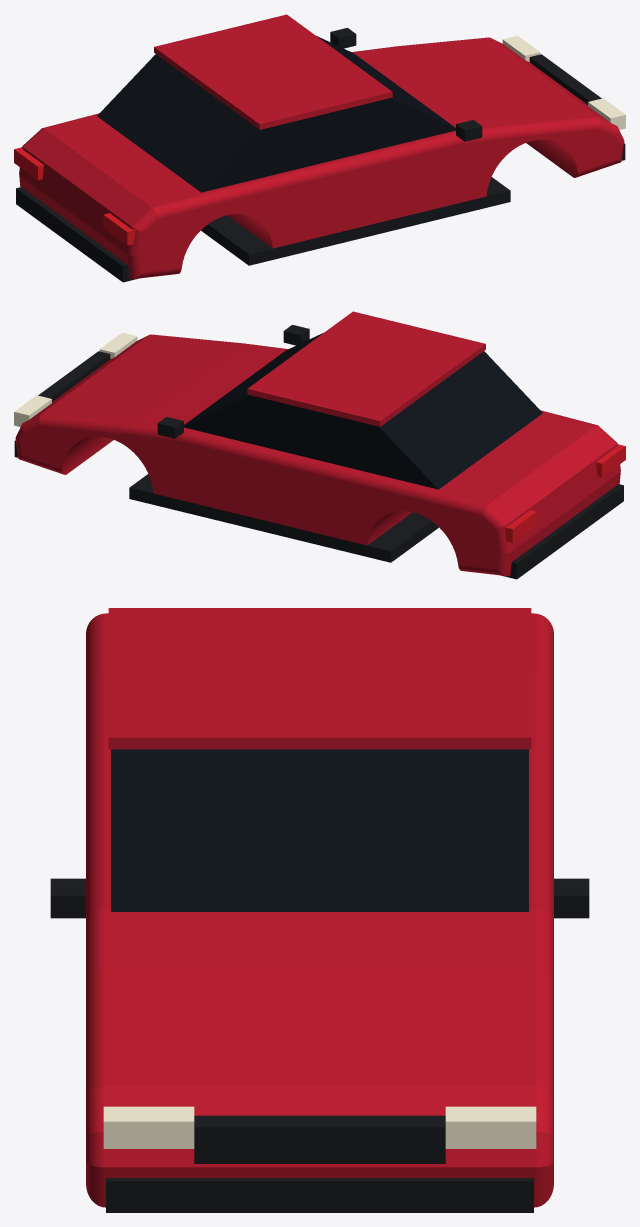
Rendered from sedan.glb.
3 views of the same model, one above another, from view 1: azimuth 30°, elevation 25°; view 2: azimuth 150°, elevation 25°; view 3: azimuth 270°, elevation 25° (orthographic). The views are drawn at different scales.
Visible parts, largest first — view 1: Body, Glass, Roof, Trim3, Trim2, Trim1, Head1, Tail1, Tail0, Head0, Trim5, Trim4; view 2: Body, Glass, Roof, Trim3, Trim2, Trim1, Head0, Tail0, Tail1, Head1, Trim4, Trim5; view 3: Body, Glass, Roof, Trim0, Trim1, Head0, Head1, Trim4, Trim5.
Part boxes in pixels (bbox=[...]): Body: bbox=[19, 37, 624, 279]; Glass: bbox=[97, 35, 455, 192]; Roof: bbox=[154, 14, 392, 129]; Trim3: bbox=[201, 177, 510, 265]; Trim2: bbox=[16, 187, 139, 282]; Trim1: bbox=[529, 54, 601, 104]; Head1: bbox=[588, 98, 625, 129]; Tail1: bbox=[103, 213, 135, 245]; Tail0: bbox=[14, 147, 43, 180]; Head0: bbox=[502, 35, 540, 61]; Trim5: bbox=[456, 120, 482, 141]; Trim4: bbox=[330, 28, 356, 48]; Body: bbox=[15, 334, 620, 576]; Glass: bbox=[184, 332, 542, 489]; Roof: bbox=[247, 311, 485, 426]; Trim3: bbox=[129, 474, 438, 562]; Trim2: bbox=[500, 484, 623, 579]; Trim1: bbox=[38, 351, 110, 401]; Head0: bbox=[14, 395, 51, 426]; Tail0: bbox=[504, 510, 536, 542]; Tail1: bbox=[596, 444, 625, 477]; Head1: bbox=[99, 332, 137, 358]; Trim4: bbox=[157, 417, 183, 438]; Trim5: bbox=[283, 325, 309, 345]; Body: bbox=[86, 613, 553, 1207]; Glass: bbox=[111, 749, 528, 911]; Roof: bbox=[108, 608, 531, 749]; Trim0: bbox=[106, 1178, 533, 1212]; Trim1: bbox=[194, 1115, 445, 1163]; Head0: bbox=[445, 1106, 536, 1148]; Head1: bbox=[103, 1106, 194, 1148]; Trim4: bbox=[554, 878, 589, 918]; Trim5: bbox=[50, 878, 85, 918].
Bounding box in the file's own units: 4.62 × 1.17 × 2.14.
